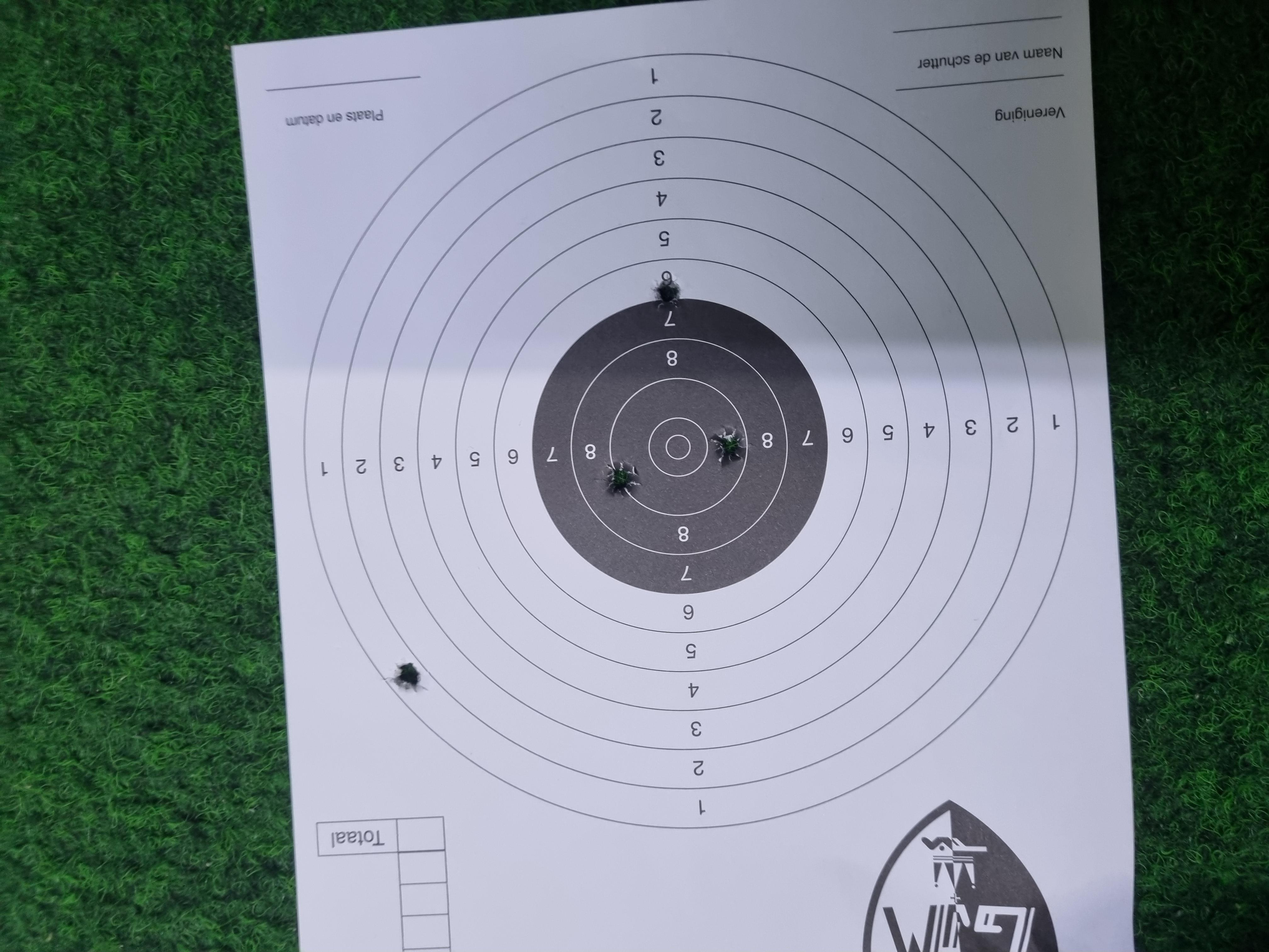hole: (343, 286, 388, 322), (647, 532, 700, 560), (605, 453, 653, 482), (855, 488, 899, 511)
